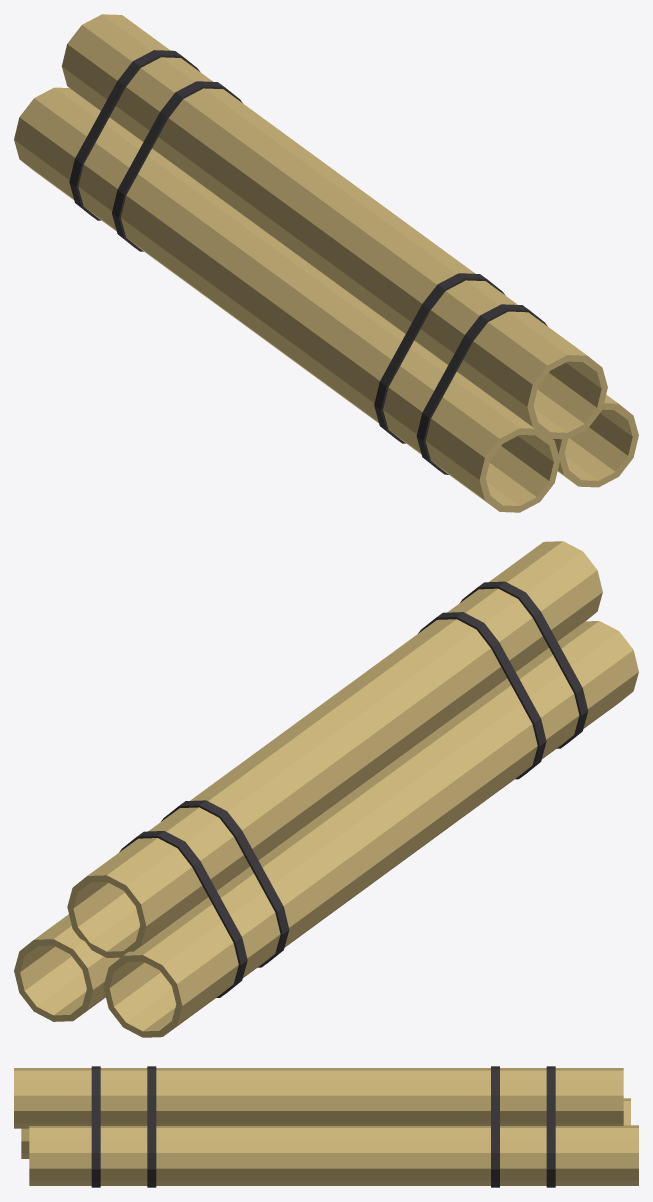
The model's file is SM_pipesStock_02.gltf.
3 renders of one model, top to bottom at view 1: azimuth 30°, elevation 25°; view 2: azimuth 150°, elevation 25°; view 3: azimuth 270°, elevation 25°, orthographic. The views are drawn at different scales.
Parts seen in each view (by area): view 1: SM_pipesStock_02; view 2: SM_pipesStock_02; view 3: SM_pipesStock_02.
Part boxes in pixels (bbox=[...]): SM_pipesStock_02: bbox=[14, 14, 638, 512]; SM_pipesStock_02: bbox=[14, 541, 638, 1037]; SM_pipesStock_02: bbox=[14, 1066, 638, 1187].
Bounding box in the file's own units: 0.8426 × 0.7382 × 4.1.
1 material, 1 textured.
